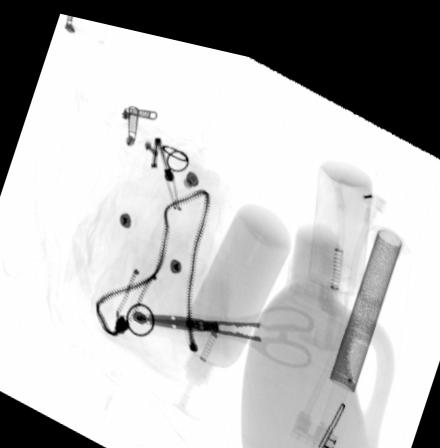Scissors: (135, 288, 314, 354)
